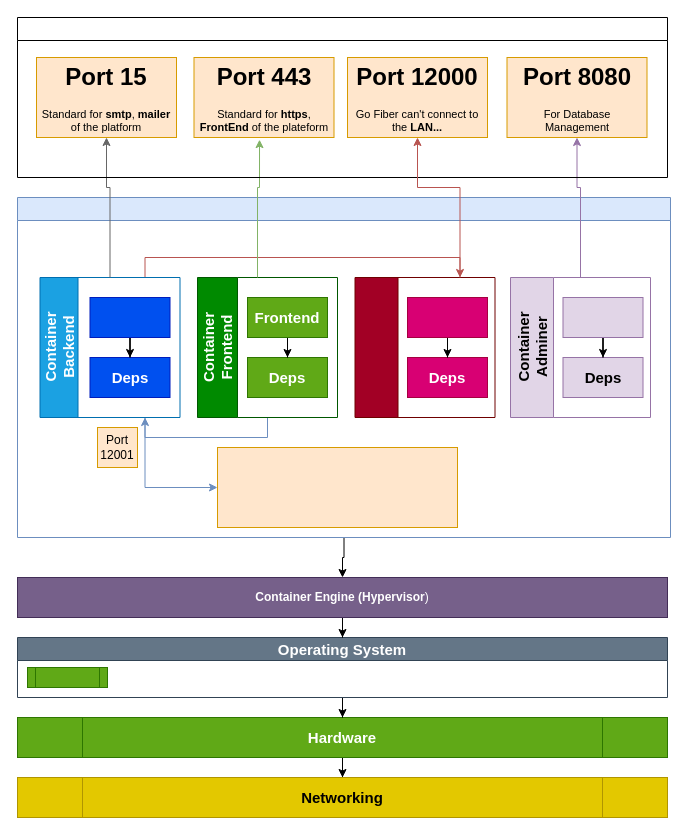
Some shapes in this 688 by 835 pixel diagram are drawn without their labels. The shapes that lost their labels are listed below. From the top down, each one's box as (x1, y1, x2, y2) in pixels, then its label:
(16, 16, 668, 178): Wan
(89, 296, 170, 338): Backend
(406, 296, 488, 338): Database
(562, 296, 643, 338): Adminer
(16, 196, 670, 538): IUTConnect (Container LXC)
(354, 276, 495, 418): Container Database
(216, 446, 458, 528): LAN Base IP : 127.0.1.1
(26, 666, 108, 688): Drivers
